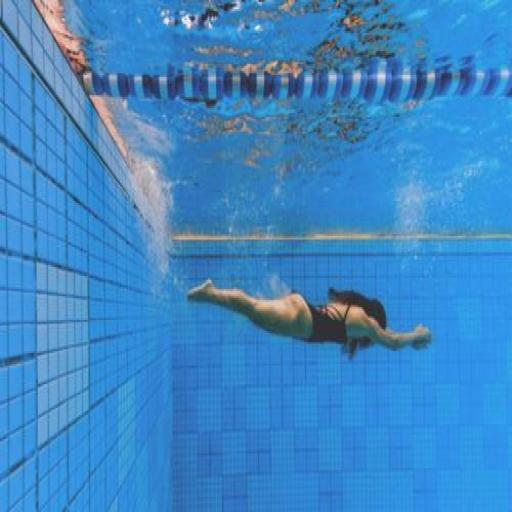swimming: (184, 274, 433, 362)
